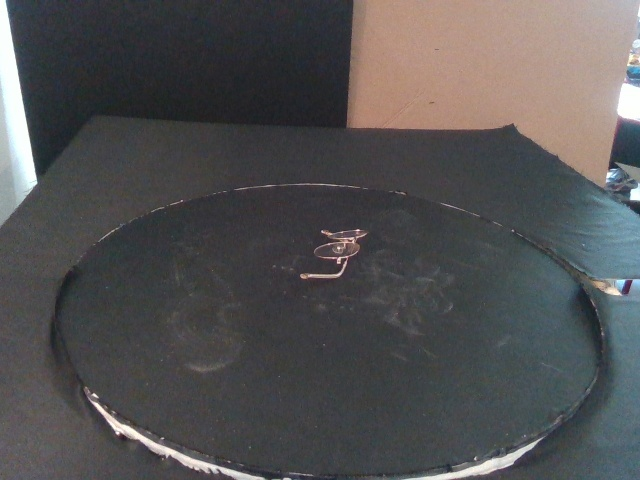glasses: (298, 227, 369, 280)
